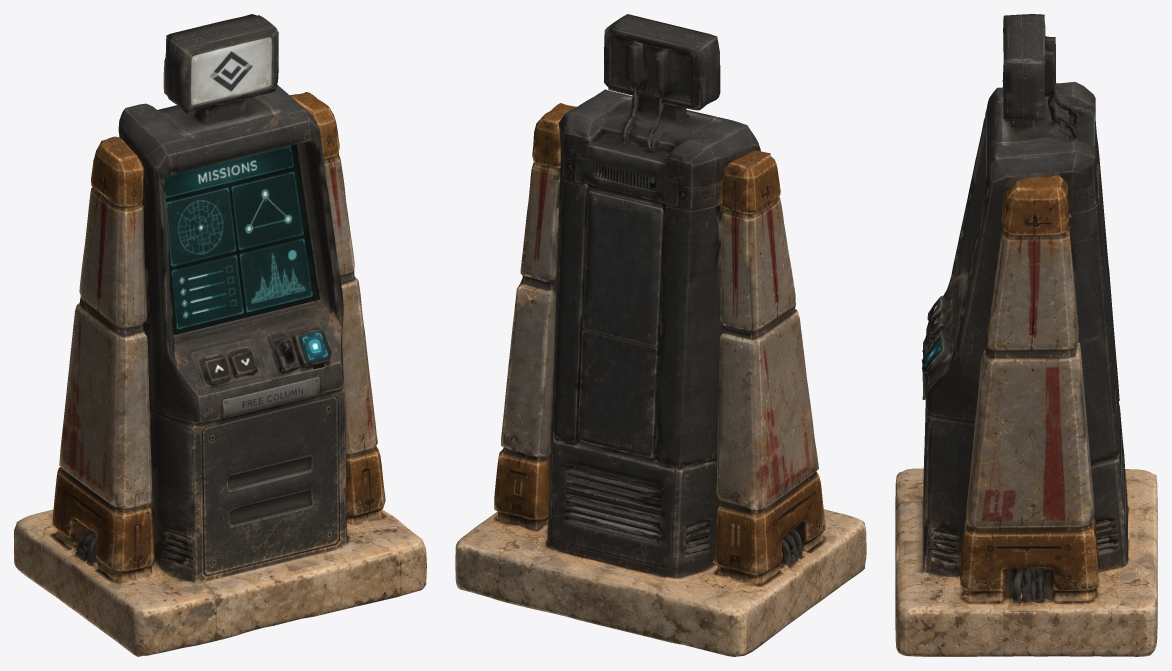
File: mission-terminal.glb
The picture shows the model from 3 angles, left to right: view 1: azimuth 30°, elevation 25°; view 2: azimuth 150°, elevation 25°; view 3: azimuth 270°, elevation 25°; orthographic projection.
Parts seen in each view (by area): view 1: Mesh_0; view 2: Mesh_0; view 3: Mesh_0.
Boxes of the visible parts, x1,y1,x2,y2 form: Mesh_0: (14, 14, 426, 656); Mesh_0: (455, 14, 866, 656); Mesh_0: (895, 14, 1157, 656).
Size of the model in its own units: 0.892 by 1.6 by 0.6897.
Materials: 1 (1 with a texture image).
